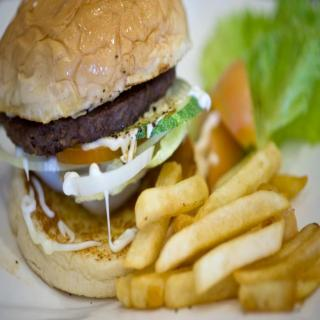French fries: (122, 166, 320, 298)
Hamburger: (0, 0, 212, 299)
